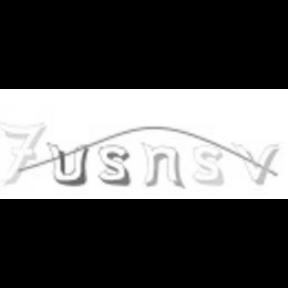7: (0, 122, 48, 186)
n: (140, 139, 186, 189)
s: (190, 142, 228, 188), (96, 144, 132, 186)
u: (46, 141, 90, 189)
v: (230, 140, 284, 186)
